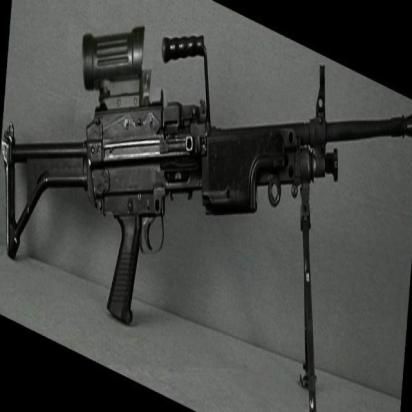Gun: (3, 19, 412, 333)
